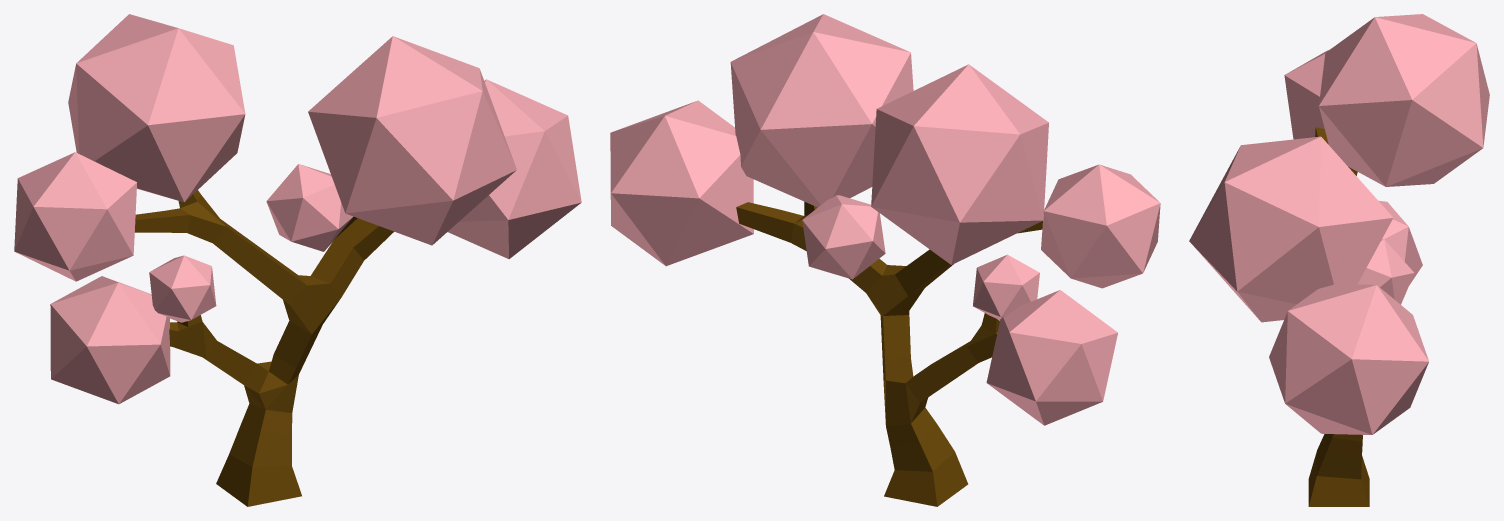
Rendered from cherry.fbx.
3 views of the same model, side by side, from view 1: azimuth 30°, elevation 25°; view 2: azimuth 150°, elevation 25°; view 3: azimuth 270°, elevation 25° (orthographic). The views are drawn at different scales.
Visible parts, largest first — view 1: Icosphere.001, Icosphere.002, Cube, Icosphere.003, Icosphere.004, Icosphere, Icosphere.005, Icosphere.006; view 2: Icosphere.002, Icosphere.001, Icosphere, Cube, Icosphere.004, Icosphere.003, Icosphere.005, Icosphere.006; view 3: Icosphere.001, Icosphere.002, Icosphere, Cube, Icosphere.003, Icosphere.005, Icosphere.004.
Part boxes in pixels (x1,y1,x2,y2): Icosphere.001: (308,36,516,245); Icosphere.002: (68,14,245,202); Cube: (134,190,393,506); Icosphere.003: (14,152,136,281); Icosphere.004: (50,276,170,404); Icosphere: (448,79,581,258); Icosphere.005: (266,164,353,251); Icosphere.006: (149,255,216,322); Icosphere.002: (871,64,1048,264); Icosphere.001: (730,14,913,207); Icosphere: (610,100,753,266); Cube: (736,201,1042,506); Icosphere.004: (986,290,1117,425); Icosphere.003: (1041,164,1160,288); Icosphere.005: (802,195,885,279); Icosphere.006: (973,254,1039,320); Icosphere.001: (1189,136,1393,322); Icosphere.002: (1319,14,1489,186); Icosphere: (1269,284,1428,434); Cube: (1308,127,1369,506); Icosphere.003: (1284,50,1328,139); Icosphere.005: (1358,239,1414,304); Icosphere.004: (1378,200,1422,285).
Size of the model in its own units: 756 by 612 by 373.
